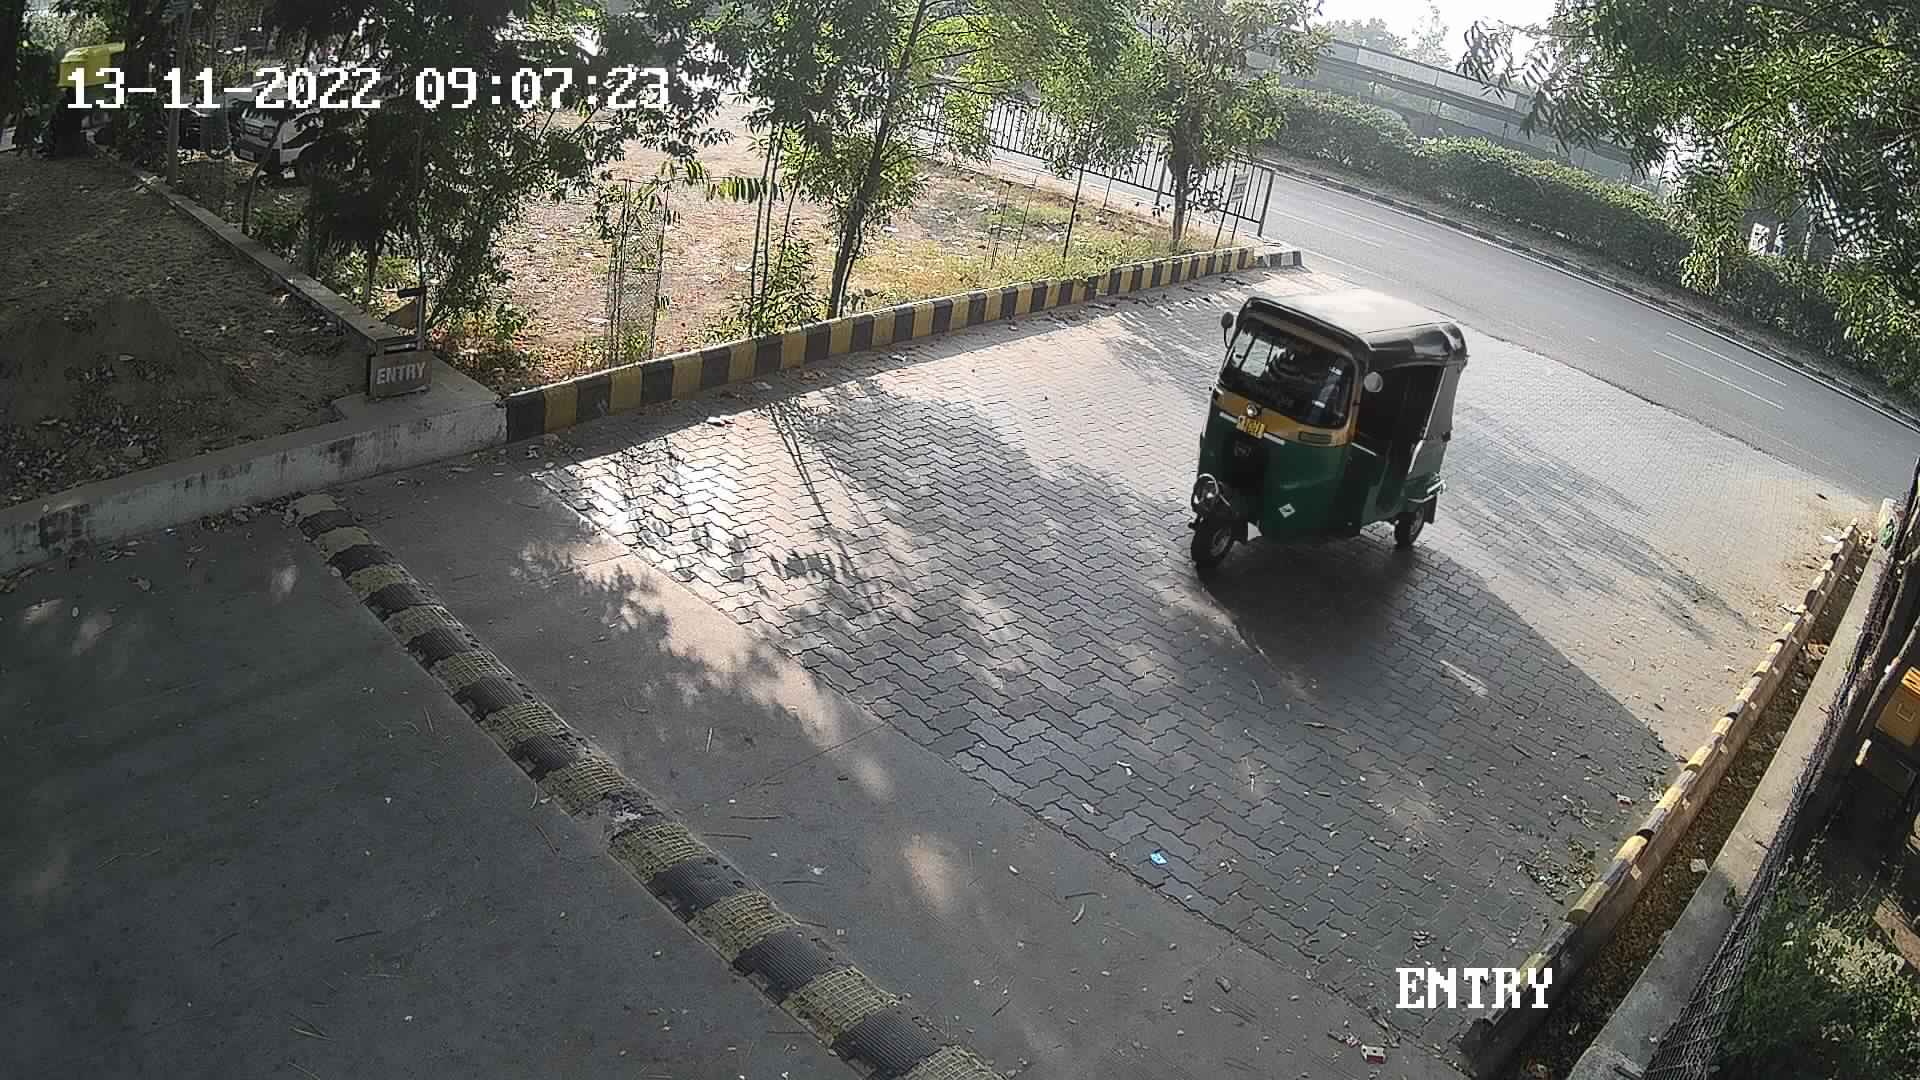Auto: (1175, 264, 1466, 588), (33, 26, 146, 142)
Car: (222, 50, 338, 194)
